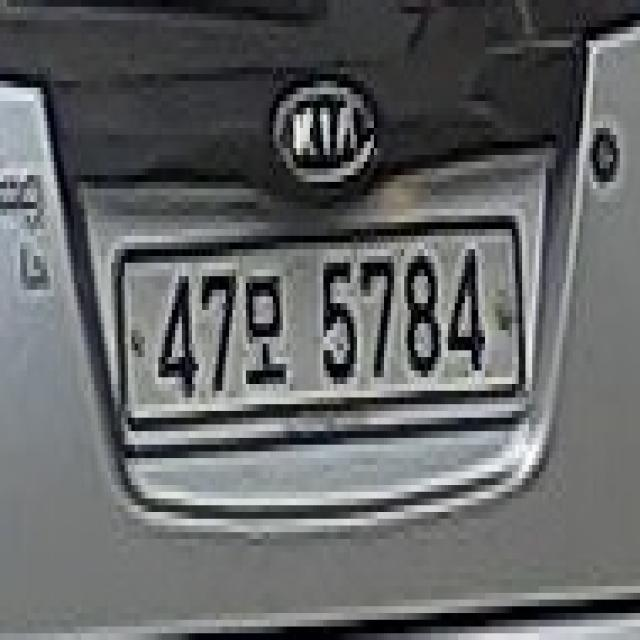plat: (109, 210, 533, 441)
